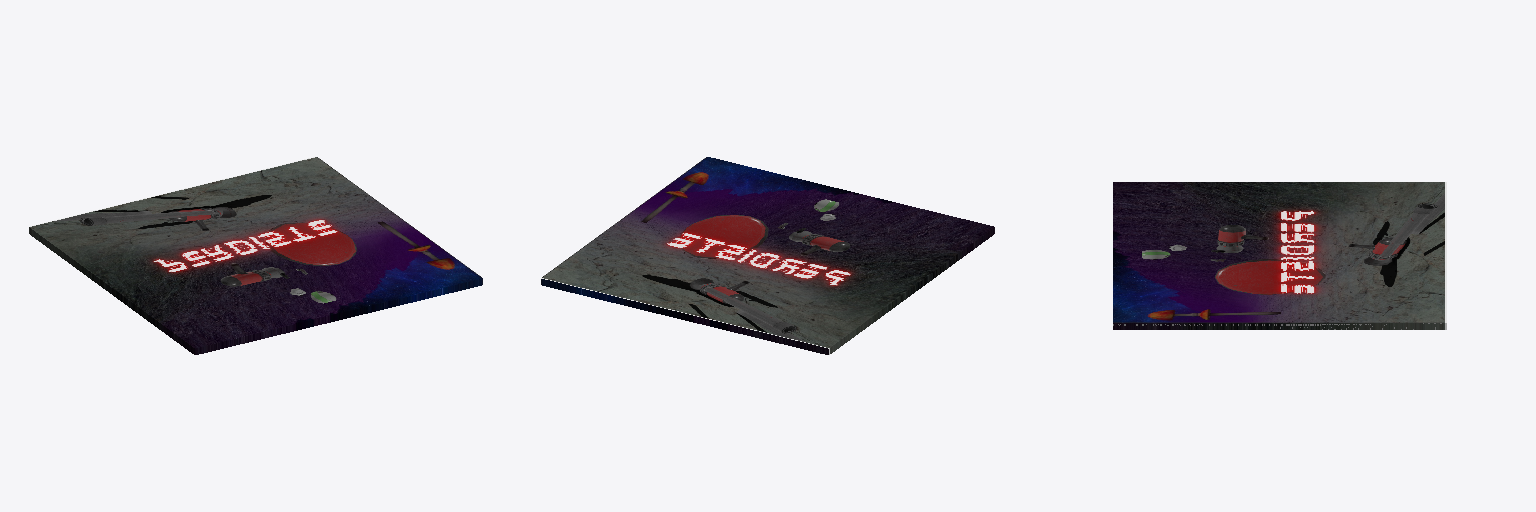
The picture shows the model from 3 angles: view 1: azimuth 30°, elevation 25°; view 2: azimuth 150°, elevation 25°; view 3: azimuth 270°, elevation 25°; orthographic projection.
Parts seen in each view (by area): view 1: Plane; view 2: Plane; view 3: Plane.
Part boxes in pixels (bbox=[...]): Plane: bbox=[29, 157, 482, 354]; Plane: bbox=[541, 157, 994, 354]; Plane: bbox=[1113, 182, 1446, 329].
Bounding box in the file's own units: 4 × 0.0914 × 4.
Materials: 1 (1 with a texture image).